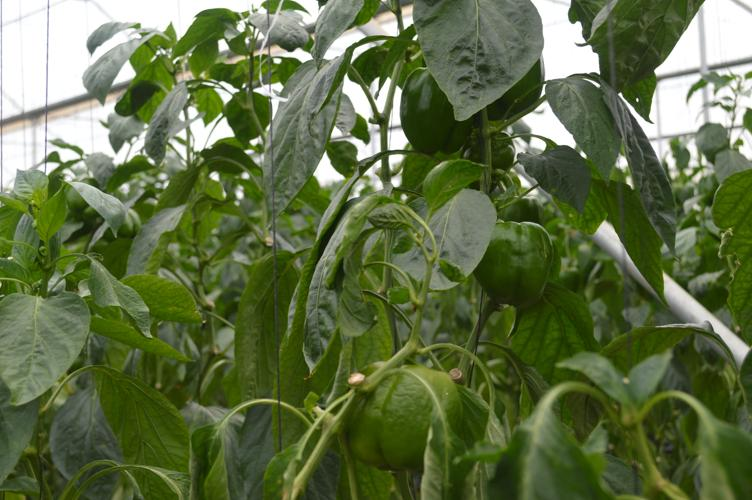BellPepper: (333, 353, 467, 464), (464, 208, 561, 311), (392, 66, 475, 164)
